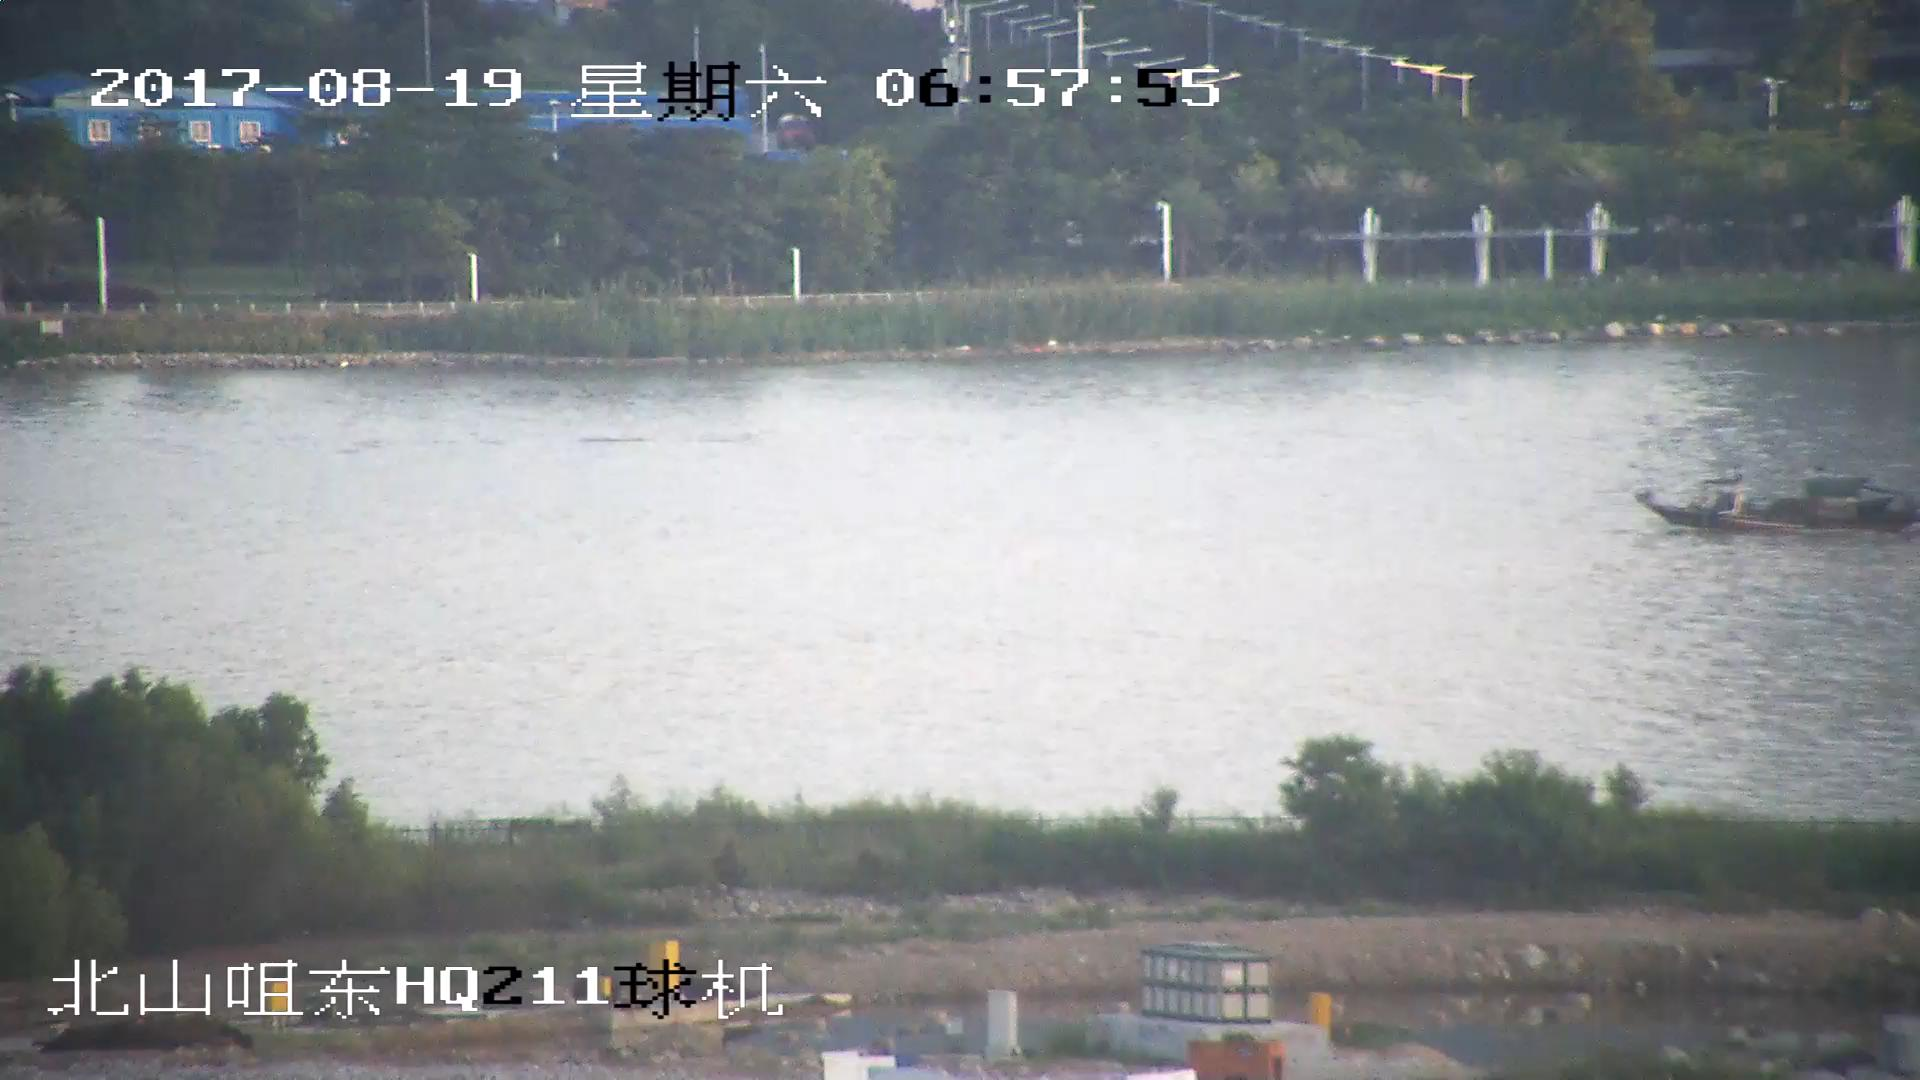fishing boat: (1632, 470, 1920, 541)
